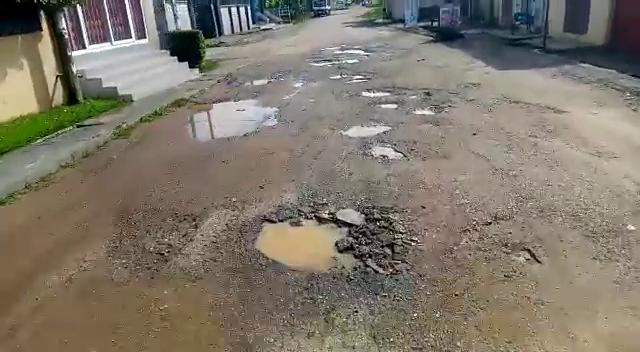pothole: (239, 206, 412, 280), (193, 99, 283, 137), (338, 121, 393, 138), (364, 142, 409, 160), (411, 103, 445, 117), (327, 73, 372, 83), (358, 87, 400, 96), (244, 77, 276, 86), (377, 101, 405, 109)
